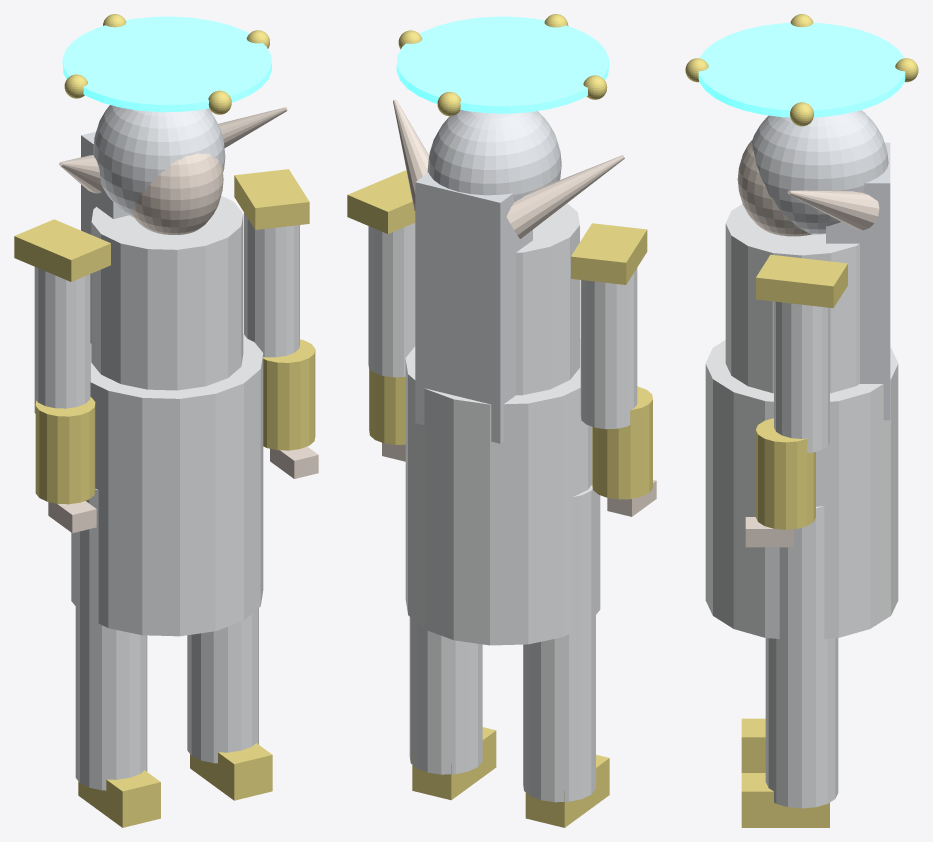
Rendered from elf_astral_full.glb.
3 renders of one model, left to right at view 1: azimuth 30°, elevation 25°; view 2: azimuth 150°, elevation 25°; view 3: azimuth 270°, elevation 25°, orthographic.
Parts seen in each view (by area): view 1: ElfAstralFull; view 2: ElfAstralFull; view 3: ElfAstralFull.
Part boxes in pixels (box(x1,y1,x2,y2)): ElfAstralFull: box(14, 14, 318, 827); ElfAstralFull: box(347, 14, 656, 827); ElfAstralFull: box(685, 14, 918, 827).
Bounding box in the file's own units: 0.787 × 2.01 × 0.58.
